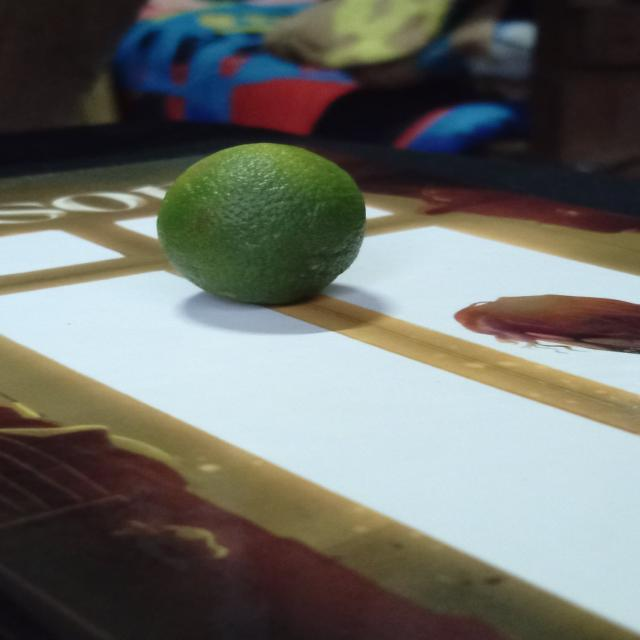heathy: (153, 143, 372, 313)
